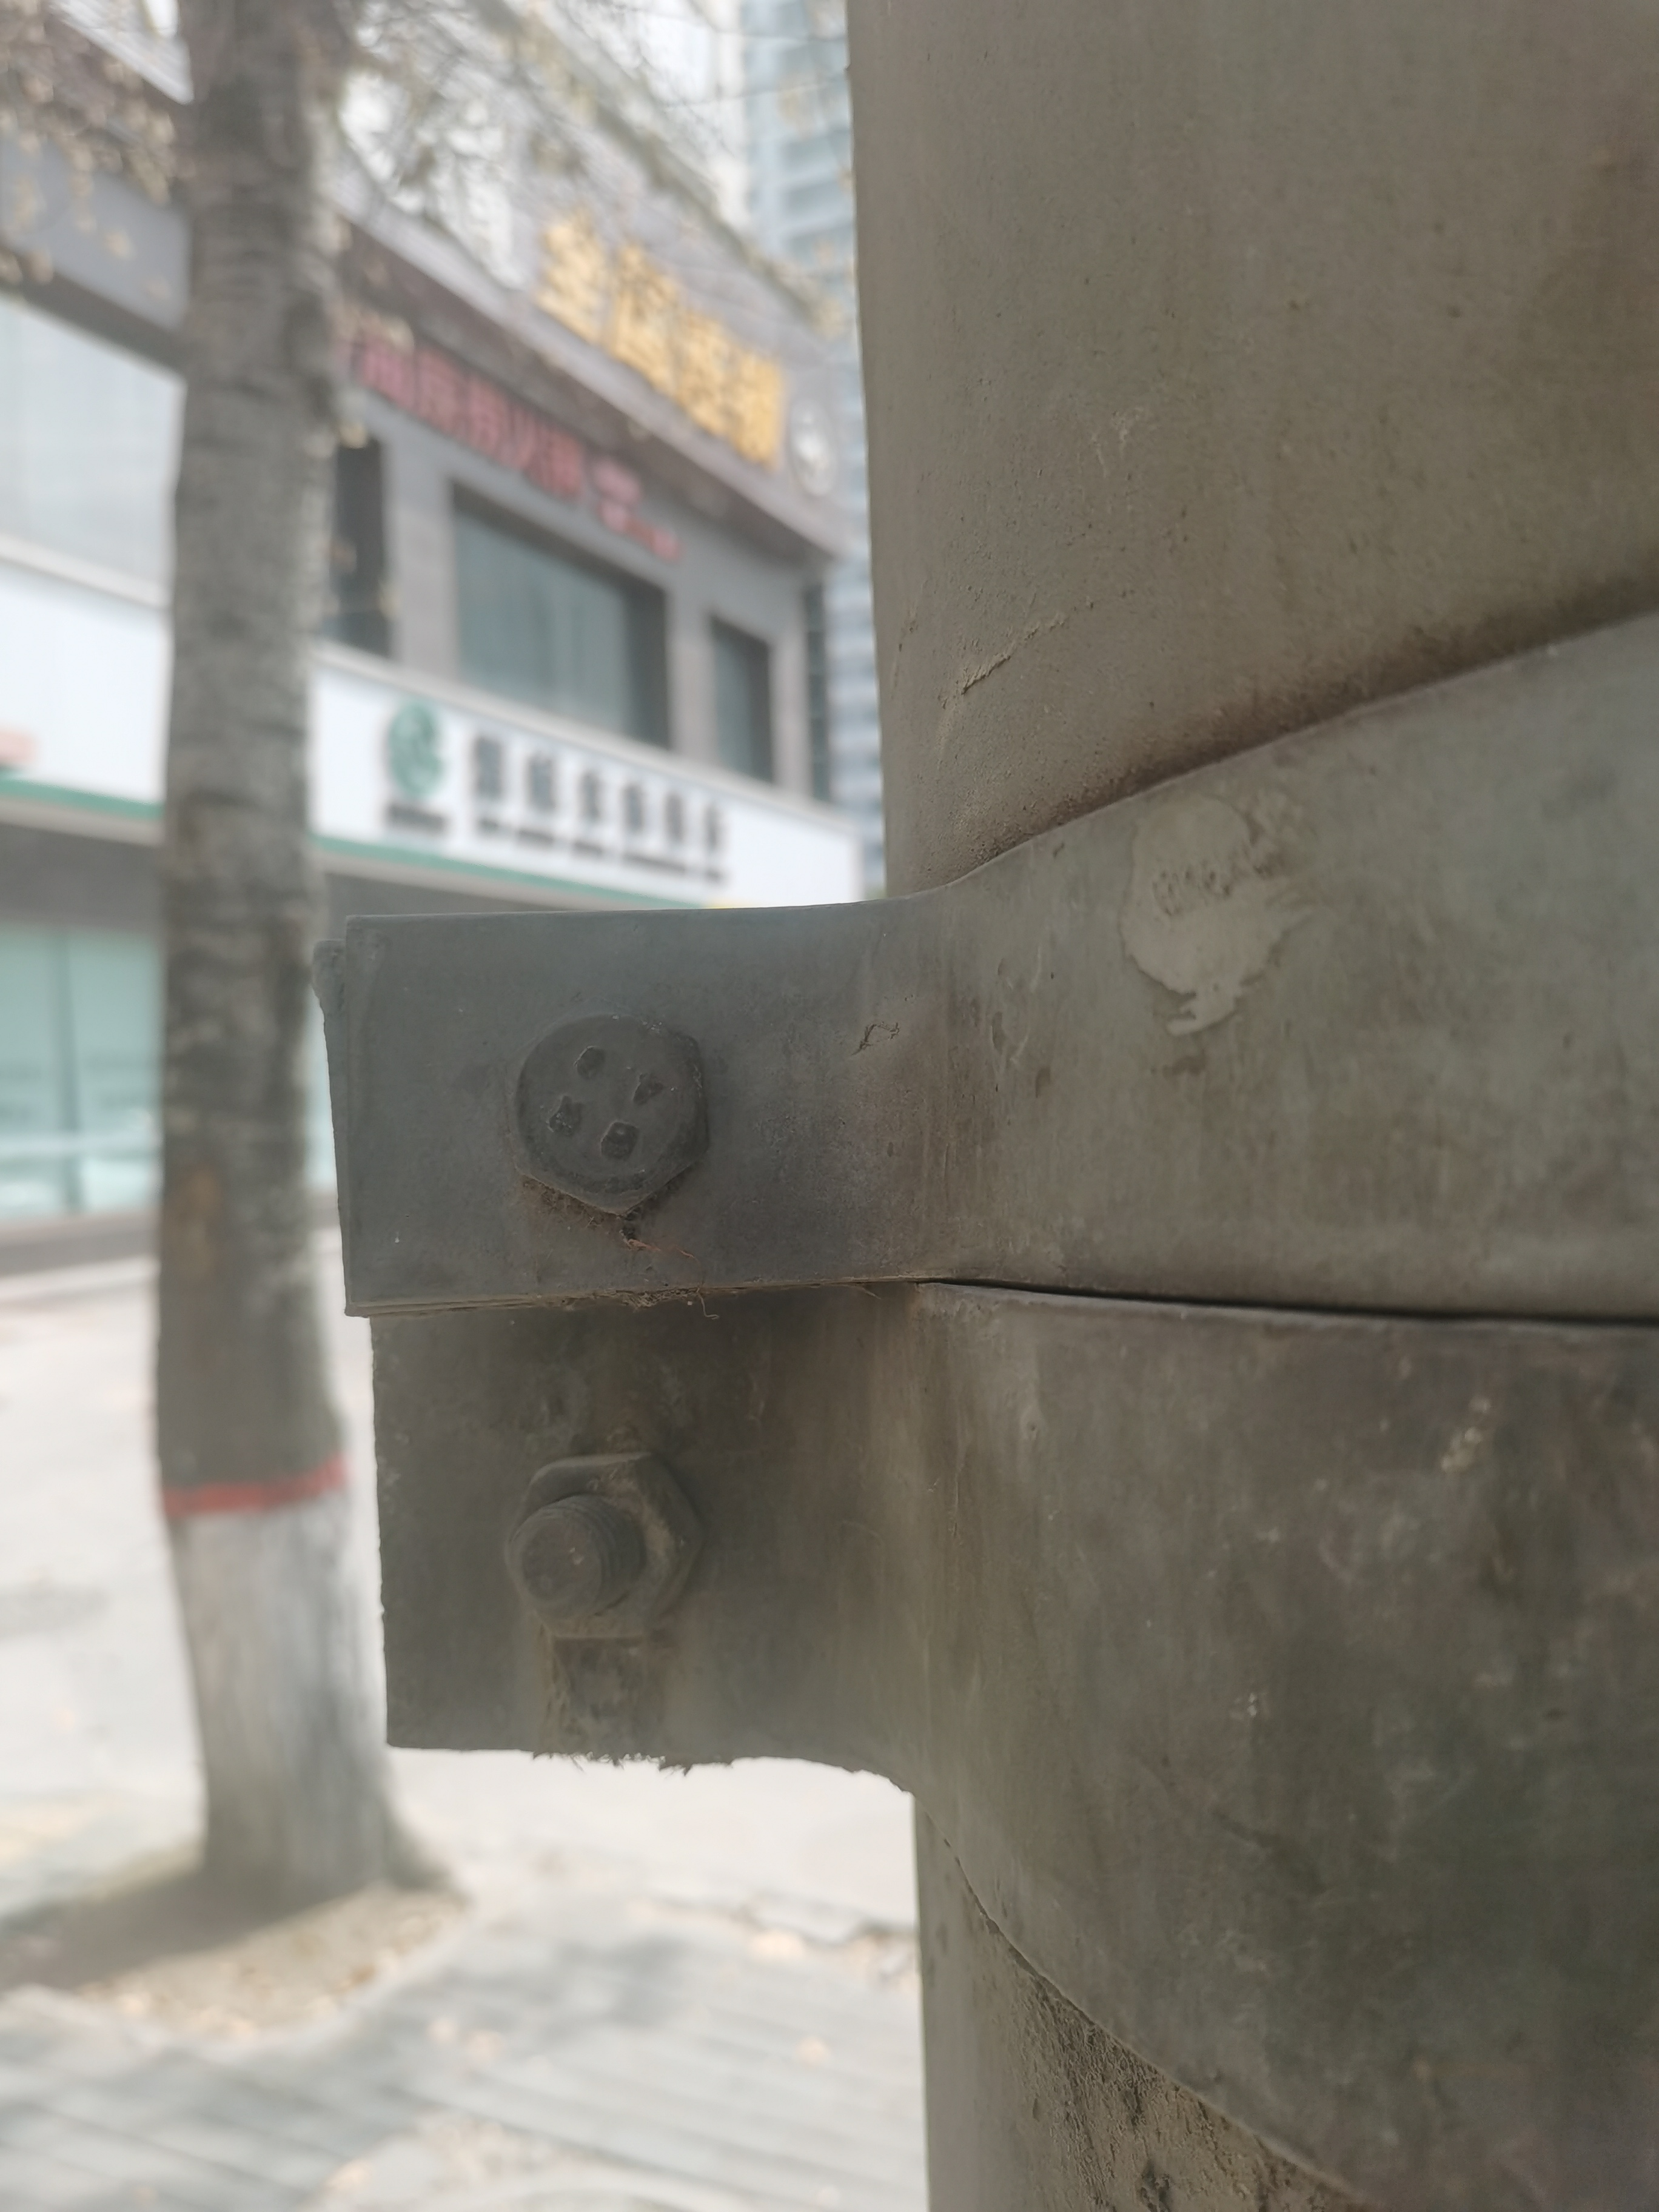bolt_a: (483, 989, 718, 1223)
bolt_b: (498, 1444, 711, 1646)
